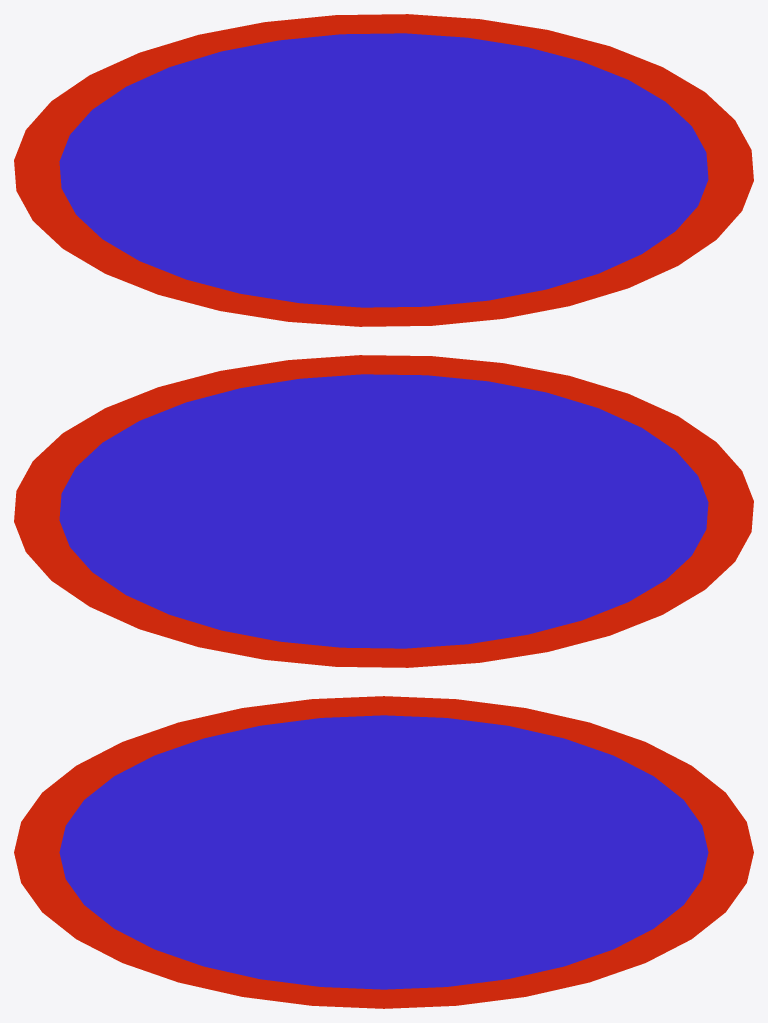
The picture shows the model from 3 angles, top to bottom: view 1: azimuth 30°, elevation 25°; view 2: azimuth 150°, elevation 25°; view 3: azimuth 270°, elevation 25°; orthographic projection.
Parts seen in each view (by area): view 1: Circle; view 2: Circle; view 3: Circle.
Boxes of the visible parts, x1=… form: Circle: x1=14, y1=14, x2=753, y2=326; Circle: x1=14, y1=355, x2=753, y2=667; Circle: x1=14, y1=696, x2=753, y2=1008.
Size of the model in its own units: 200 by 3.26e-05 by 200.
